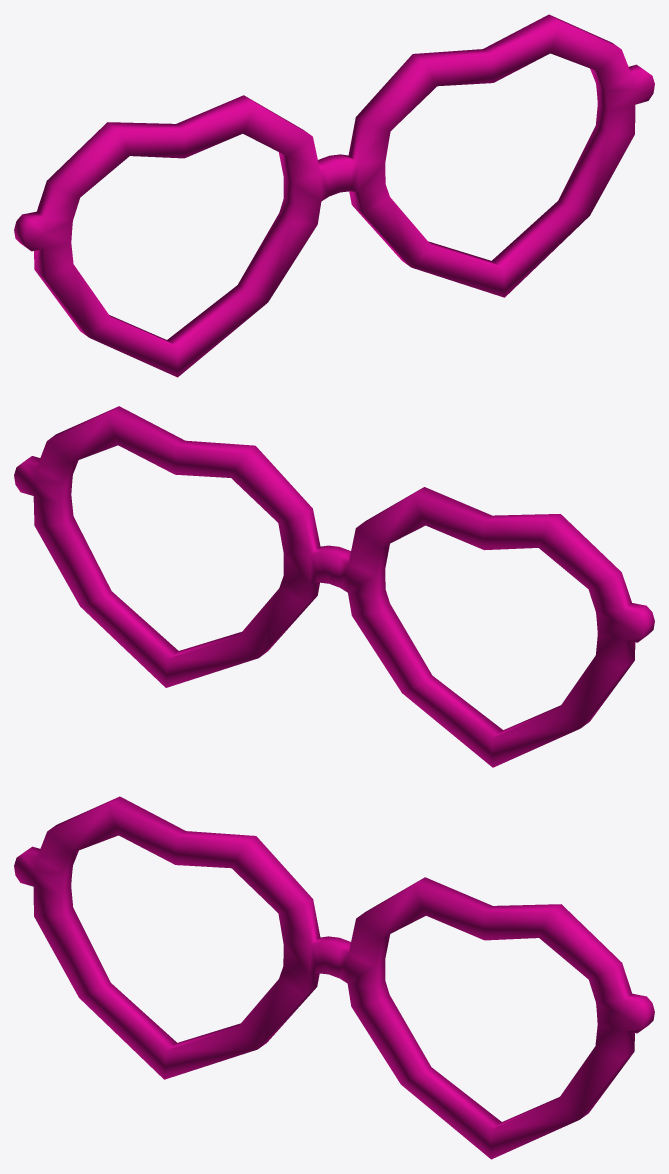
The model's file is Acce_glass_Hart.FBX.
3 views of the same model, one above another, from view 1: azimuth 30°, elevation 25°; view 2: azimuth 150°, elevation 25°; view 3: azimuth 330°, elevation 25° (orthographic).
Parts seen in each view (by area): view 1: glass_Hart; view 2: glass_Hart; view 3: glass_Hart.
Part boxes in pixels (x1,y1,x2,y2): glass_Hart: (14, 14, 654, 377); glass_Hart: (14, 406, 654, 767); glass_Hart: (14, 796, 654, 1159).
Size of the model in its own units: 22.88 by 9.03 by 0.8169.
1 material, 1 textured.
